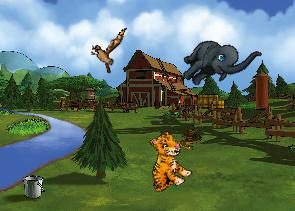eagle: (89, 26, 127, 74)
elephant: (174, 17, 262, 106)
tiger: (132, 128, 198, 197)
